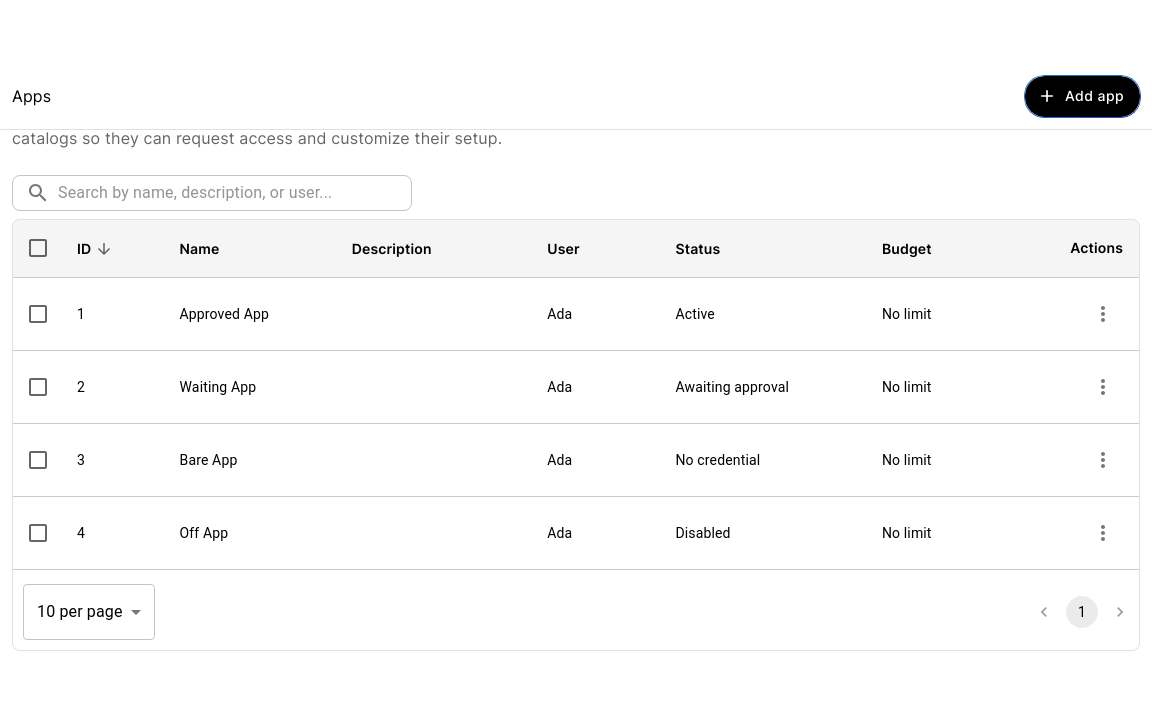
AppList status labels and approval › does not offer Approve credentials on an approved app
This screenshot has width=1152, height=720.
Expected: the text "Active" is shown, [660,277,866,350]
What coordinates should you click on to do the following:
click the button named "Actions for Approved App"
I would click on:
 (1103, 314)
Its box is [1083,294,1123,334].
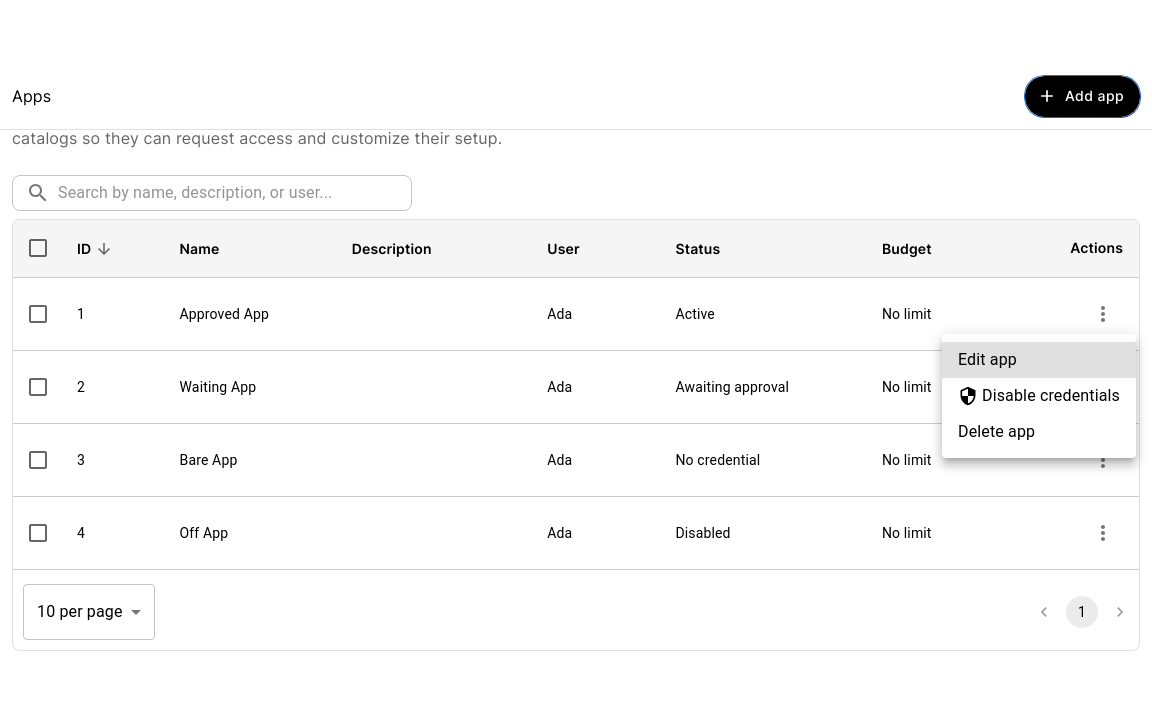
Expected: the menu item "Disable credentials" is shown, [958,386,1120,406]
